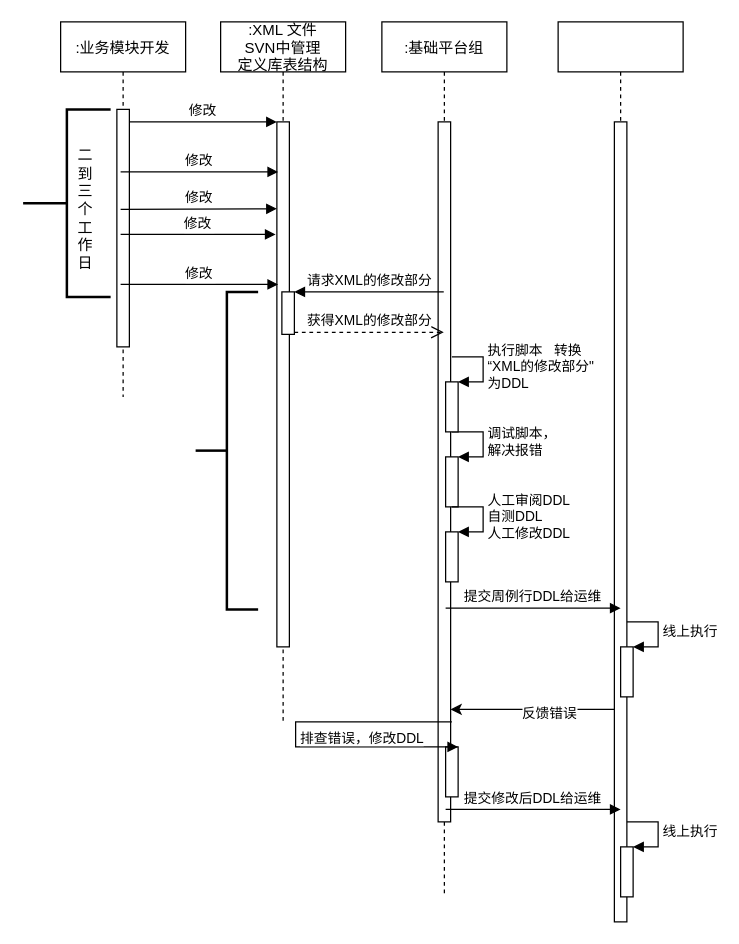
The diagram is 739 pixels wide and 944 high, and some of its shapes have lost their labels. Here are the shapes that lost their labels. From the top down, the box of each, then its label:
(194, 290, 259, 610): 周例行 一般 一天内完成
(557, 21, 683, 922): :线上运维
